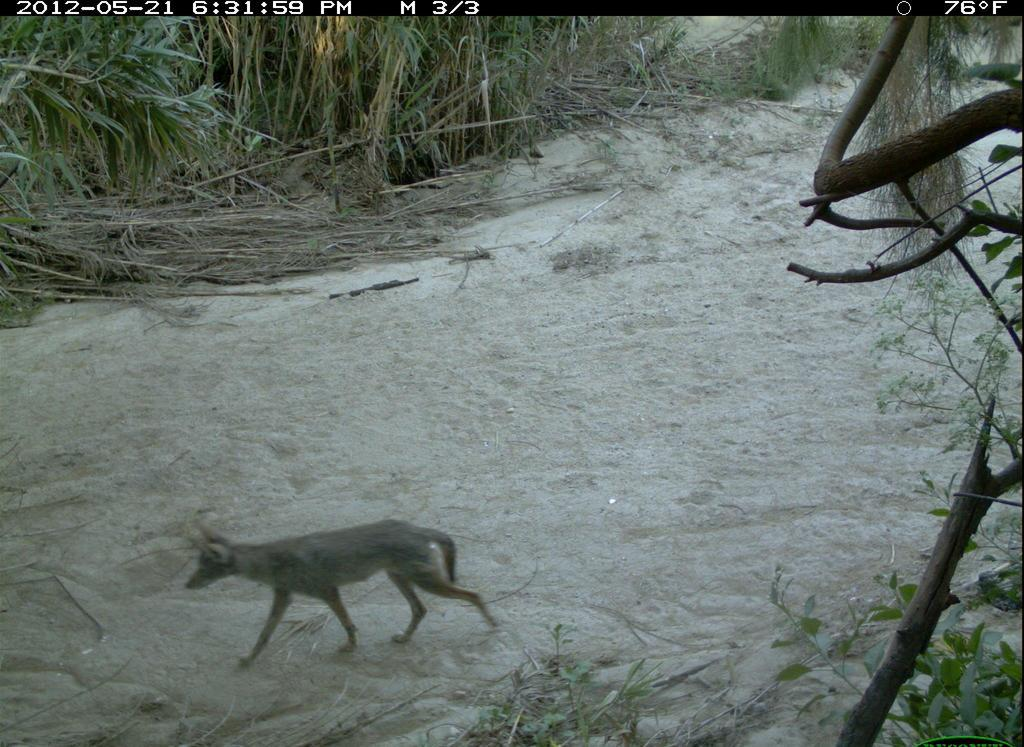coyote: (178, 505, 505, 675)
